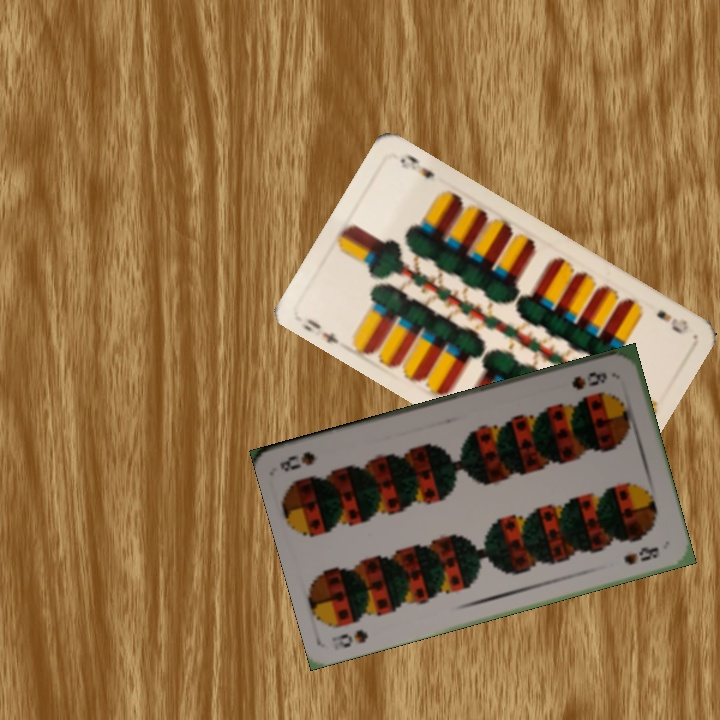E9: (296, 314, 341, 347), (653, 306, 691, 337)
S8: (327, 625, 371, 653), (567, 368, 610, 393)
